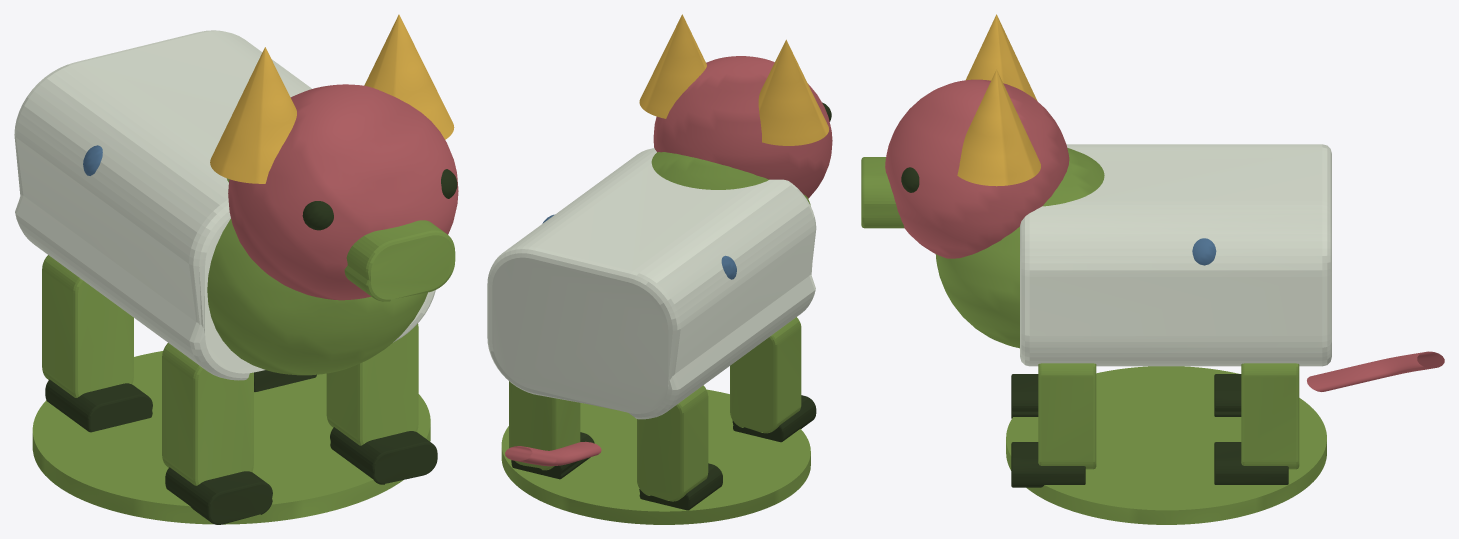
Rendered from 0940_国宝动物图鉴_扬子鳄.glb.
The picture shows the model from 3 angles, left to right: view 1: azimuth 30°, elevation 25°; view 2: azimuth 150°, elevation 25°; view 3: azimuth 270°, elevation 25°; orthographic projection. The views are drawn at different scales.
Parts seen in each view (by area): view 1: card_0940; view 2: card_0940; view 3: card_0940.
Boxes of the visible parts, box(x1,y1,x2,y2) form: card_0940: box(14, 14, 458, 524); card_0940: box(487, 14, 832, 524); card_0940: box(861, 14, 1444, 524).
Size of the model in its own units: 0.7528 by 1 by 1.29.
